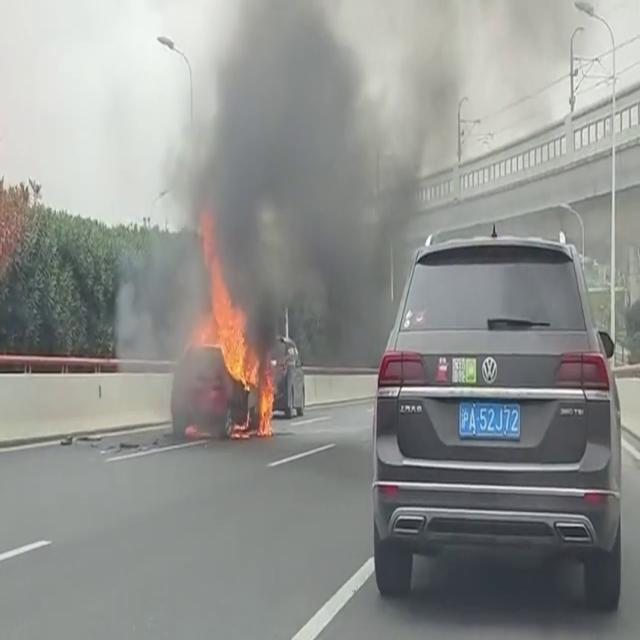normal: (357, 196, 640, 639)
single accident: (129, 220, 276, 450)
